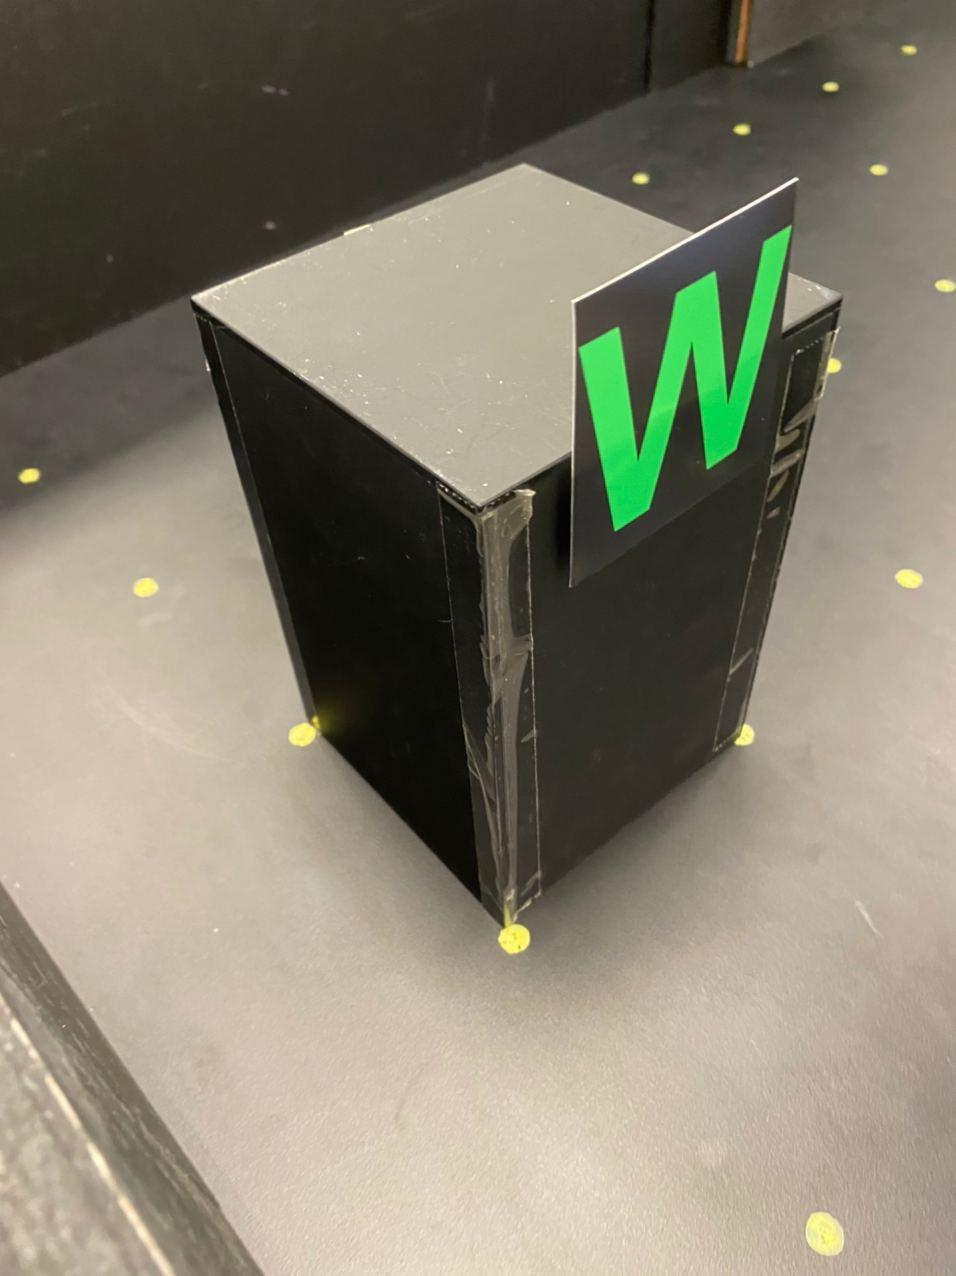w: (567, 215, 796, 528)
